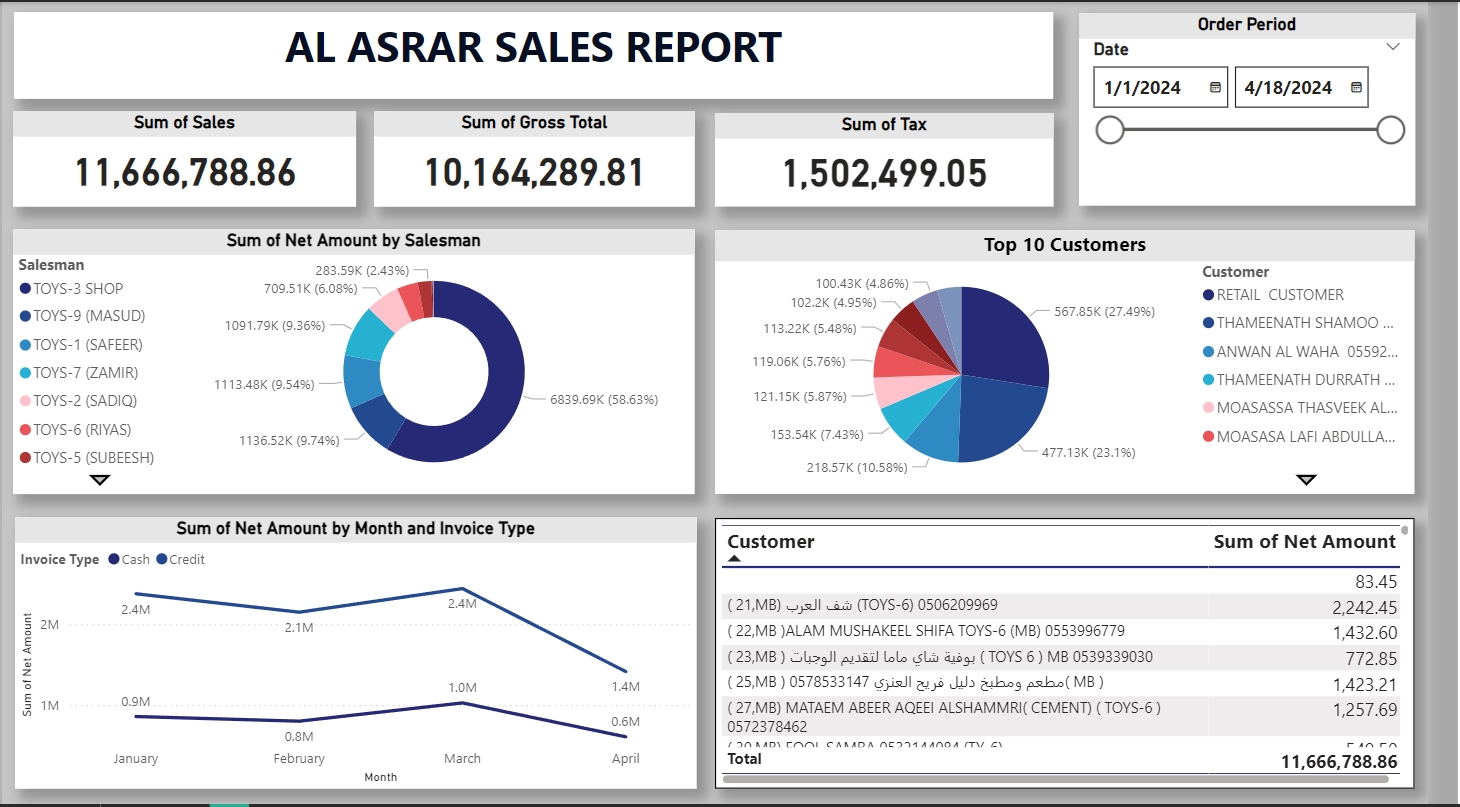

Layout of this report page (visuals, bound fields, positions):
{"tool":"powerbi","page":{"name":"Sales Report","canvas":[1280,720],"ordinal":0},"visuals":[{"type":"textbox","box":[10.8,9,932.8,78.1],"z":0},{"type":"slicer","title":"Order Period","fields":{"Values":["BATCH_1032.Date"]},"box":[966.7,10,301.7,173.3],"z":1000},{"type":"card","title":"Sum of Sales","fields":{"Values":["BATCH_1032.Net Amount"]},"box":[10,98,308,86],"z":2000},{"type":"card","title":"Sum of Gross Total","fields":{"Values":["BATCH_1032.Gross Total"]},"box":[334,98,288,86],"z":3000},{"type":"card","title":"Sum of Tax","fields":{"Values":["BATCH_1032.Tax"]},"box":[640,100,304,84],"z":4000},{"type":"pieChart","title":"Top 10 Customers","fields":{"Y":["BATCH_1032.Net Amount"],"Category":["BATCH_1032.Customer"]},"box":[640,205,628.3,236.7],"z":5000},{"type":"donutChart","fields":{"Category":["BATCH_1032.Salesman"],"Y":["BATCH_1032.Net Amount"]},"box":[10,204,612,238],"z":6000},{"type":"lineChart","fields":{"Series":["BATCH_1032.Invoice Type"],"Category":["BATCH_1032.Date.Variation.Date Hierarchy.Month"],"Y":["BATCH_1032.Net Amount"]},"box":[12,462,612,244],"z":7000},{"type":"pivotTable","fields":{"Rows":["BATCH_1032.Customer"],"Values":["BATCH_1032.Net Amount"]},"box":[640,463.3,628.3,243.3],"z":8000}]}

Visuals, with their boxes in screenshot pixels (x1, y1, x2, y2), scaled from the page's 1280x720 canvas onto the 1460x807 screenshot:
textbox: select_region(12, 10, 1076, 98)
"Order Period" slicer: select_region(1103, 11, 1447, 205)
"Sum of Sales" card: select_region(11, 110, 363, 206)
"Sum of Gross Total" card: select_region(381, 110, 709, 206)
"Sum of Tax" card: select_region(730, 112, 1077, 206)
"Top 10 Customers" pieChart: select_region(730, 230, 1447, 495)
donutChart - BATCH_1032.Salesman x BATCH_1032.Net Amount: select_region(11, 229, 709, 495)
lineChart - BATCH_1032.Invoice Type x BATCH_1032.Date.Variation.Date Hierarchy.Month: select_region(14, 518, 712, 791)
pivotTable - BATCH_1032.Customer x BATCH_1032.Net Amount: select_region(730, 519, 1447, 792)
